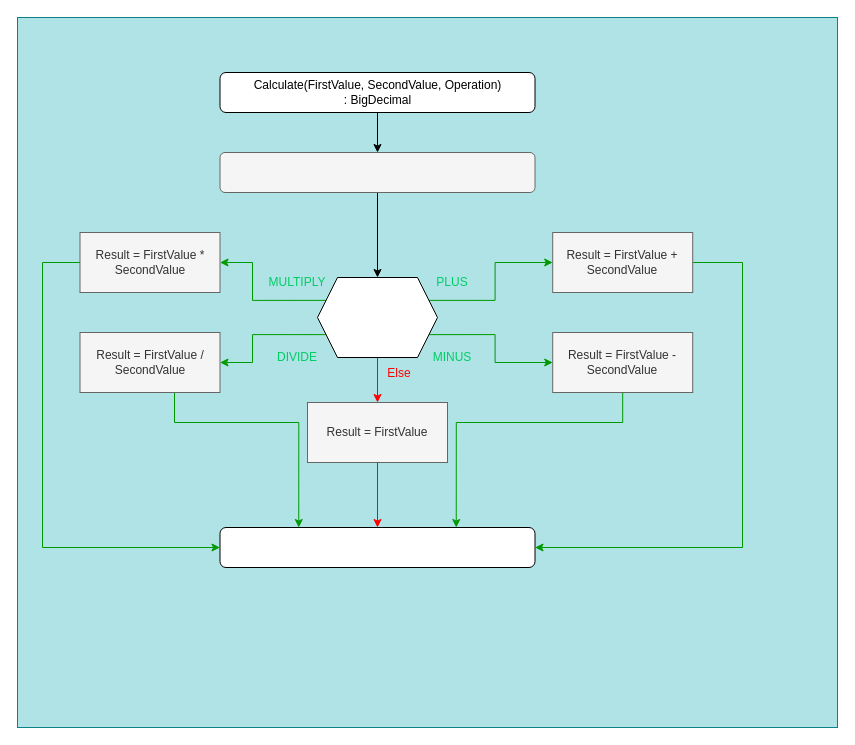
The diagram is 855 pixels wide and 745 high, and some of its shapes have lost their labels. Here are the shapes that lost their labels. From the top down, the centre of each, then its label:
At pixel 377 172: "+ Result: BigDecimal".
At pixel 377 317: "Switch (Operation)".
At pixel 377 547: "Return Result".
